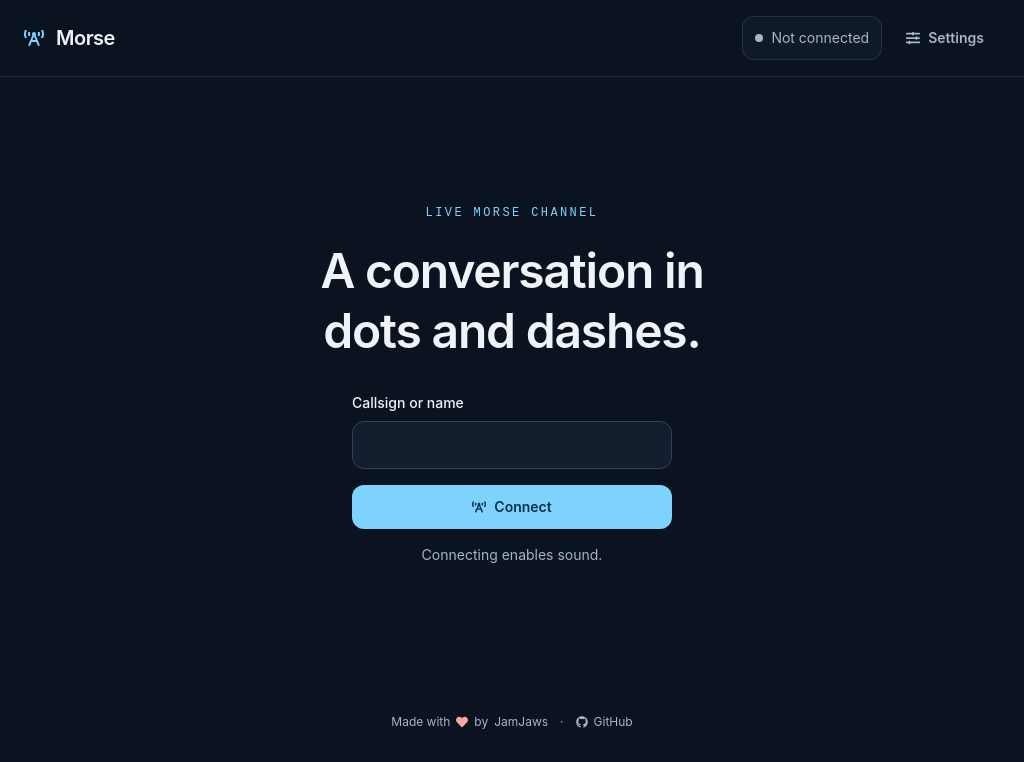
keeps notes intact and explains how to copy when clipboard access is denied
This screenshot has width=1024, height=762.
Step 1. Click the button "Connect" → x=512, y=506, box [352, 484, 672, 528]
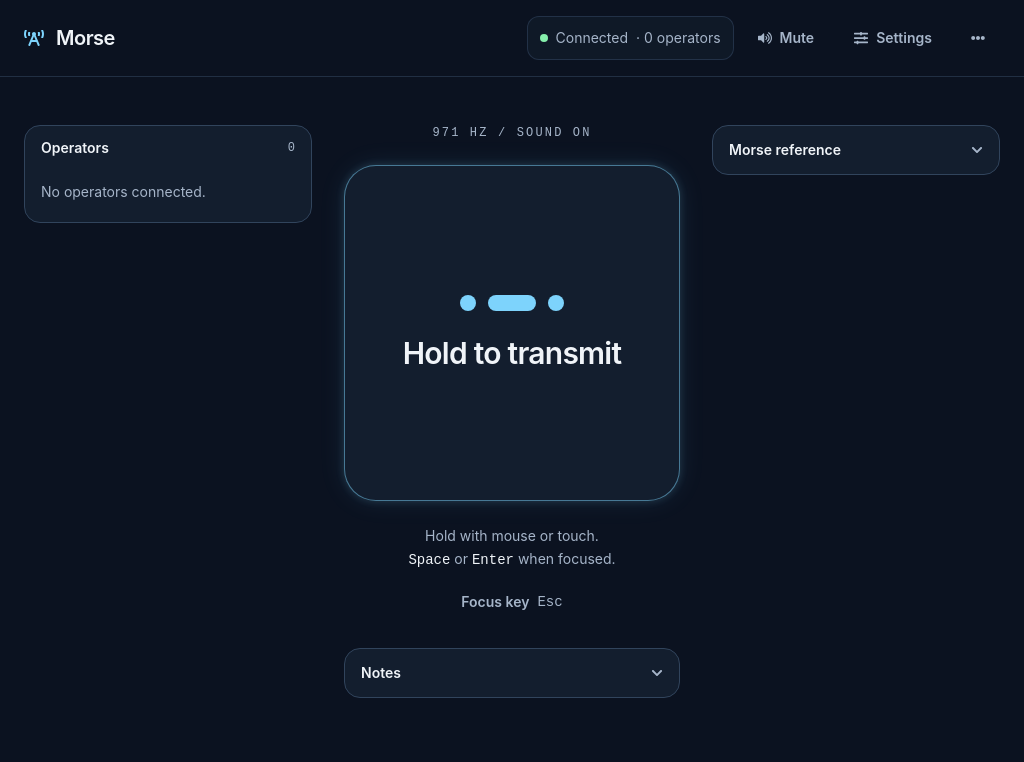
Step 2. Click the button "Notes" → x=381, y=672, box [345, 648, 679, 696]
(page scrolled)
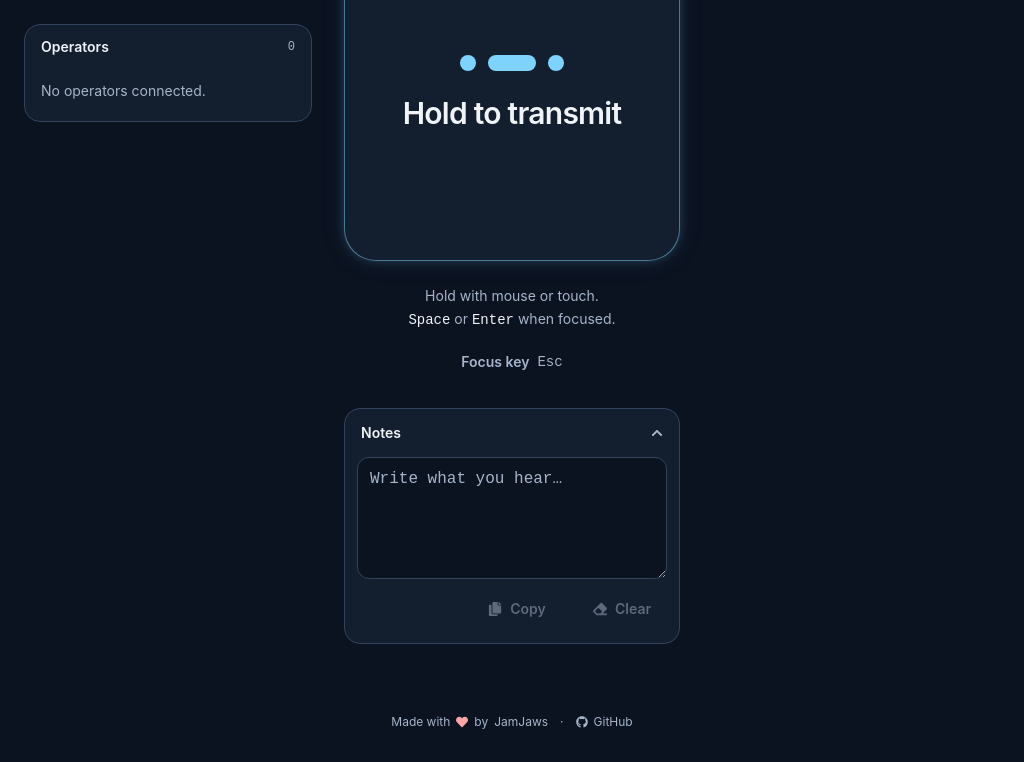
Step 3. Type "Keep these notes" into the text box named "Listening notes" → x=512, y=518, box [357, 456, 667, 578]
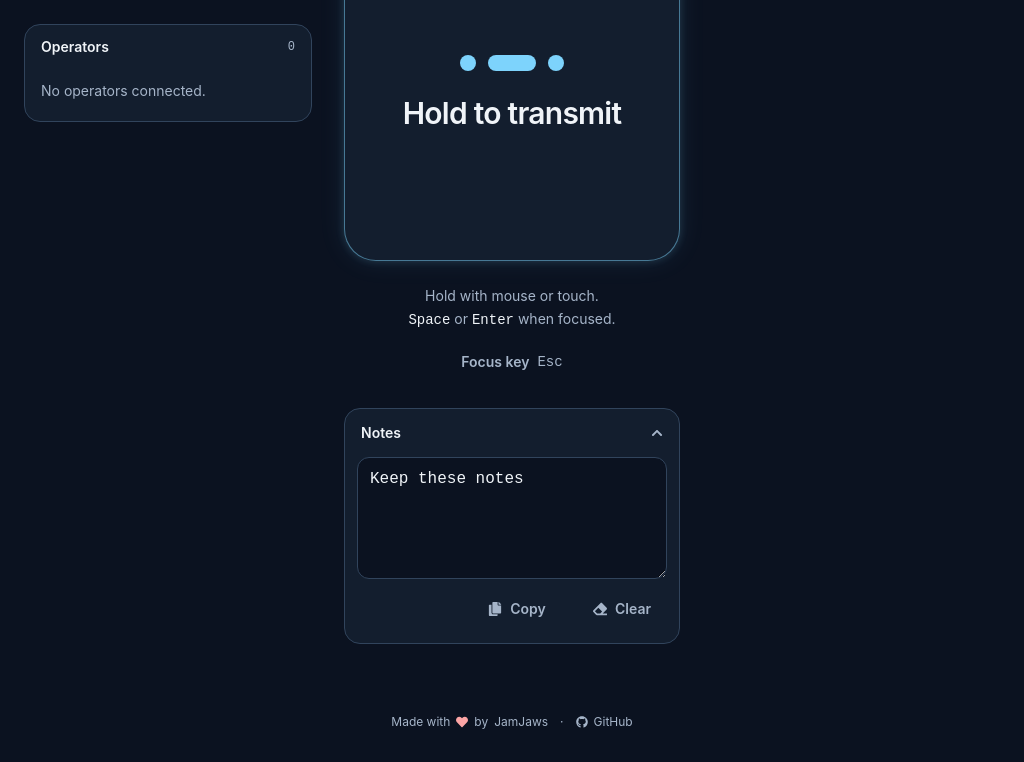
Step 4. Click the button with aria-label "Copy notes" → x=517, y=608, box [461, 586, 573, 630]
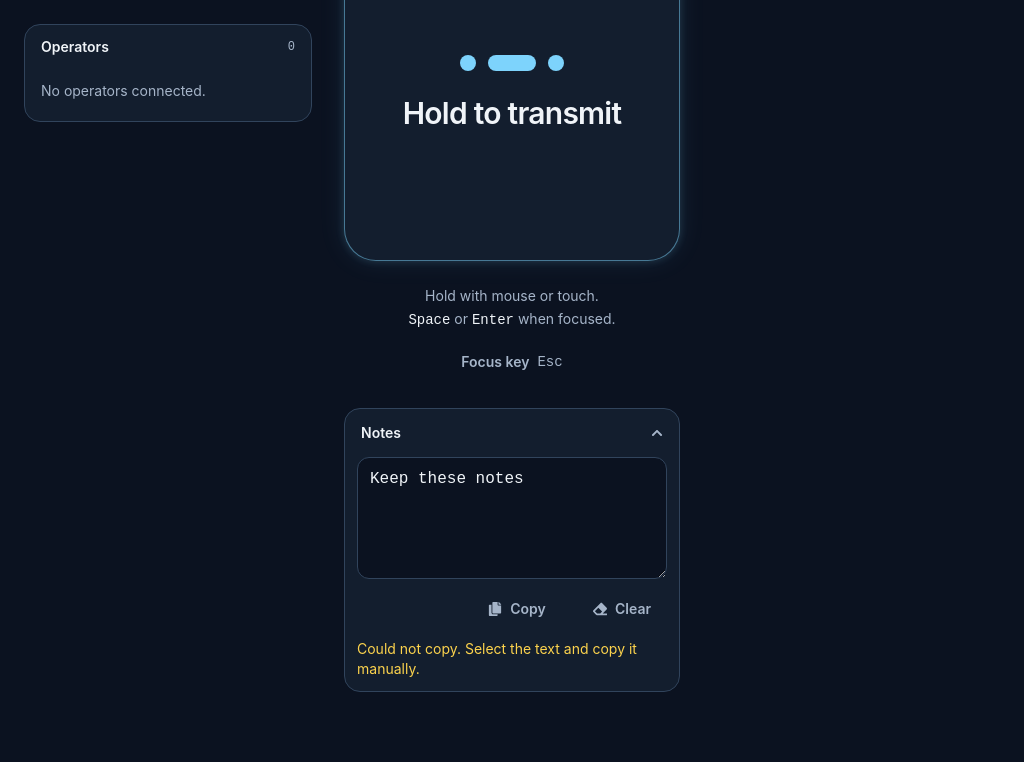
Check: the text "Could not copy. Select the text and copy it manually." is shown, box [357, 638, 667, 678]
Step 5. Replace the text in the text box named "Listening notes" with "Still listening" → x=512, y=518, box [357, 456, 667, 578]
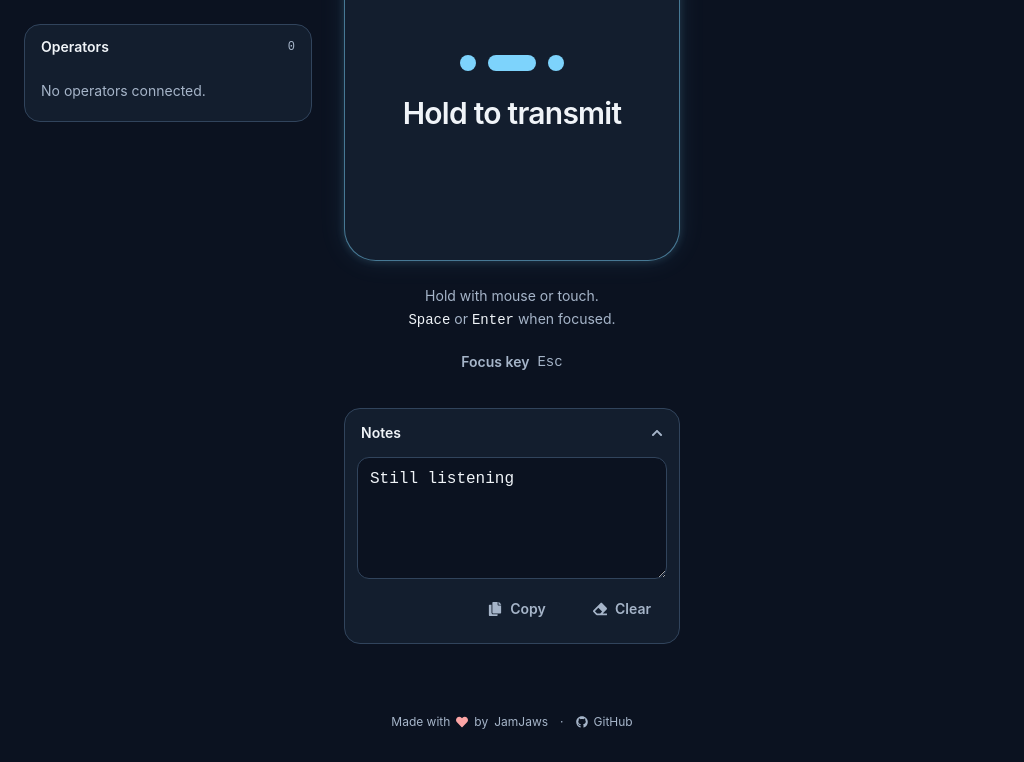
Check: the text "Could not copy. Select the text and copy it manually." is gone
